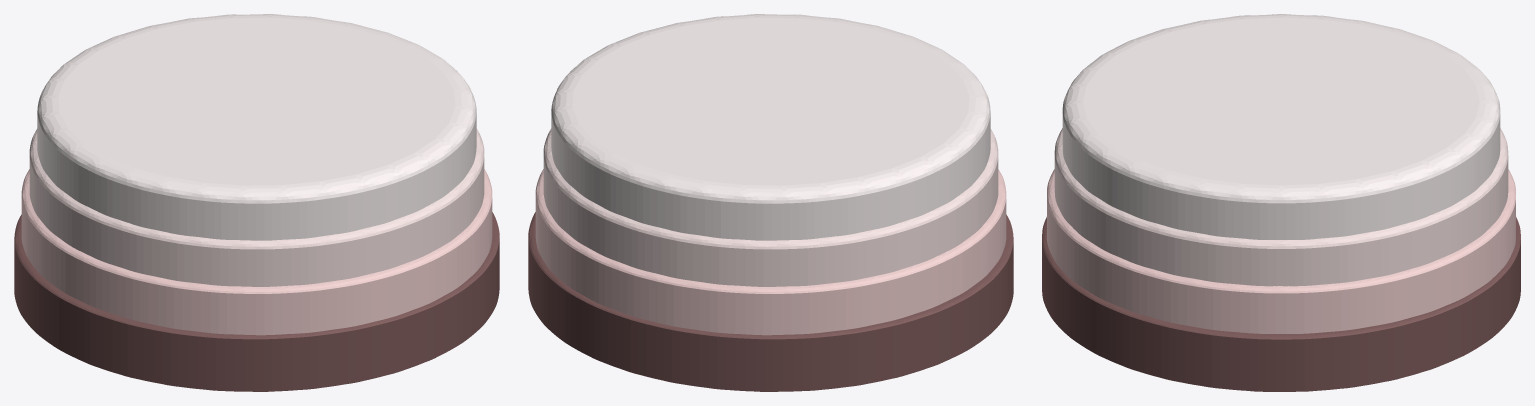
File: bolocilindro cobertura Ciasto.glb
3 renders of one model, left to right at view 1: azimuth 30°, elevation 25°; view 2: azimuth 150°, elevation 25°; view 3: azimuth 270°, elevation 25°, orthographic.
Parts seen in each view (by area): view 1: Cylinder.002, Cylinder.005, Cylinder.004, Cylinder.003; view 2: Cylinder.002, Cylinder.005, Cylinder.004, Cylinder.003; view 3: Cylinder.002, Cylinder.005, Cylinder.004, Cylinder.003.
Part boxes in pixels (x1=…): Cylinder.002: x1=37, y1=14, x2=476, y2=240; Cylinder.005: x1=14, y1=212, x2=499, y2=391; Cylinder.004: x1=21, y1=169, x2=492, y2=335; Cylinder.003: x1=29, y1=128, x2=484, y2=286; Cylinder.002: x1=551, y1=14, x2=990, y2=240; Cylinder.005: x1=528, y1=212, x2=1013, y2=391; Cylinder.004: x1=535, y1=169, x2=1006, y2=335; Cylinder.003: x1=543, y1=128, x2=998, y2=286; Cylinder.002: x1=1062, y1=14, x2=1500, y2=239; Cylinder.005: x1=1042, y1=217, x2=1520, y2=391; Cylinder.004: x1=1047, y1=169, x2=1515, y2=333; Cylinder.003: x1=1054, y1=128, x2=1508, y2=286.
Size of the model in its own units: 3.04 by 1.32 by 3.
